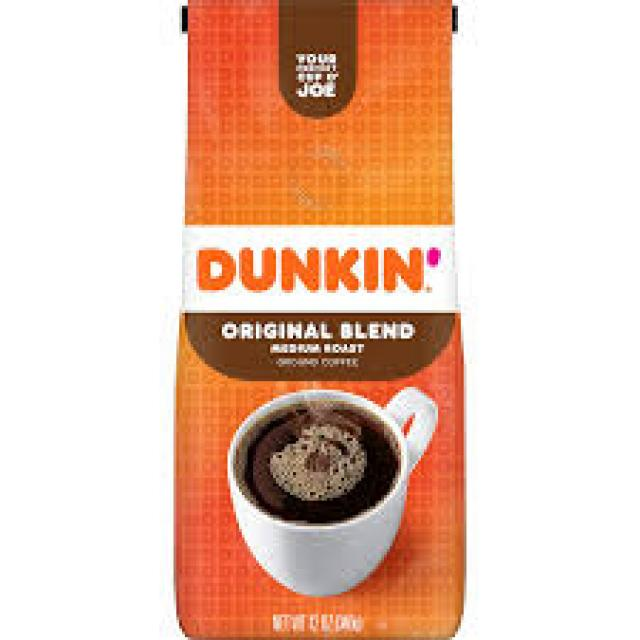coffee: (171, 0, 472, 640)
